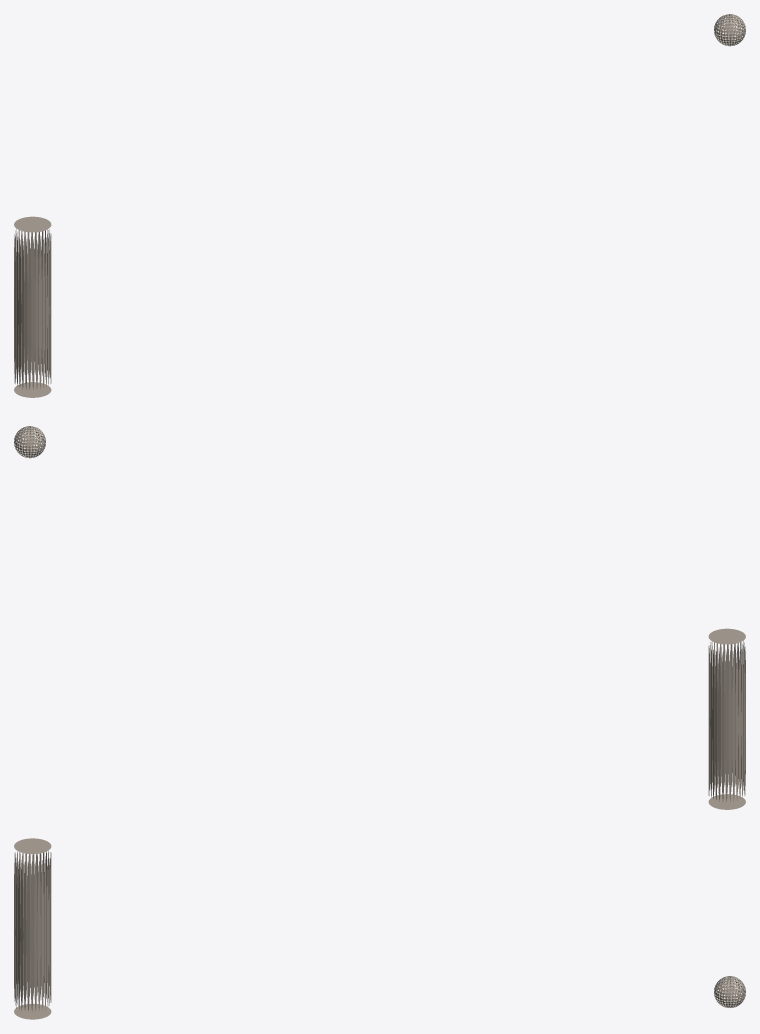
The model's file is CH_Bureaucrat_PBR.glb.
The picture shows the model from 3 angles, top to bottom: view 1: azimuth 30°, elevation 25°; view 2: azimuth 150°, elevation 25°; view 3: azimuth 330°, elevation 25°; orthographic projection.
Parts seen in each view (by area): view 1: CH_Bureaucrat_Body, CH_Bureaucrat_Head; view 2: CH_Bureaucrat_Body, CH_Bureaucrat_Head; view 3: CH_Bureaucrat_Body, CH_Bureaucrat_Head.
Boxes of the visible parts, left/top/right/bottom form: CH_Bureaucrat_Body: left=14, top=216, right=51, bottom=397; CH_Bureaucrat_Head: left=714, top=14, right=745, bottom=46; CH_Bureaucrat_Body: left=708, top=628, right=745, bottom=809; CH_Bureaucrat_Head: left=14, top=426, right=45, bottom=458; CH_Bureaucrat_Body: left=14, top=838, right=51, bottom=1019; CH_Bureaucrat_Head: left=714, top=976, right=745, bottom=1007.
Bounding box in the file's own units: 15.65 × 4.2 × 0.6994.
